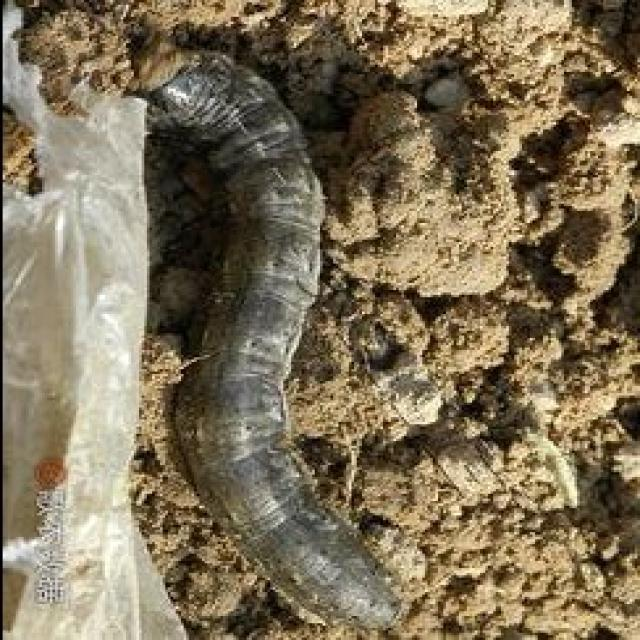black cutworm: (124, 37, 408, 631)
